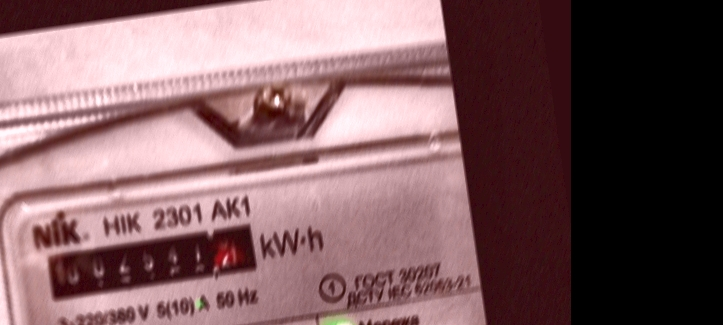0: (62, 258, 83, 286), (89, 251, 107, 280)
1: (188, 235, 204, 264)
2: (113, 248, 132, 275)
4: (164, 240, 180, 264)
5: (137, 243, 159, 273)
6: (217, 248, 234, 268)
screen: (33, 209, 273, 312)
